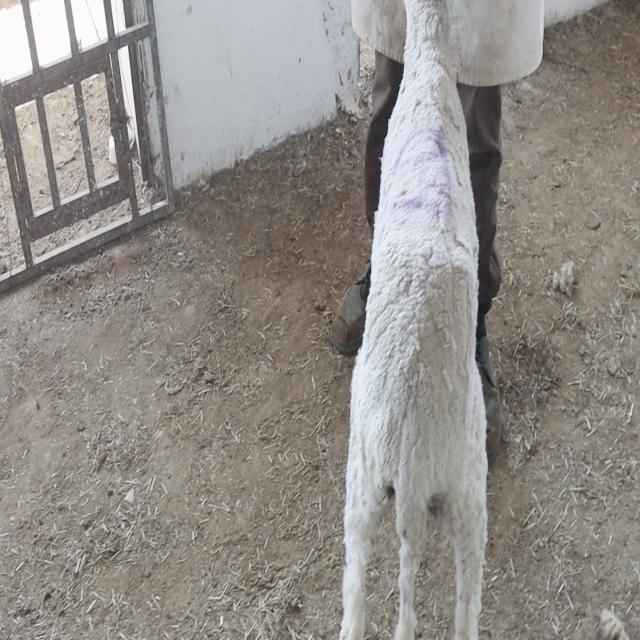Score_2: (340, 0, 487, 639)
